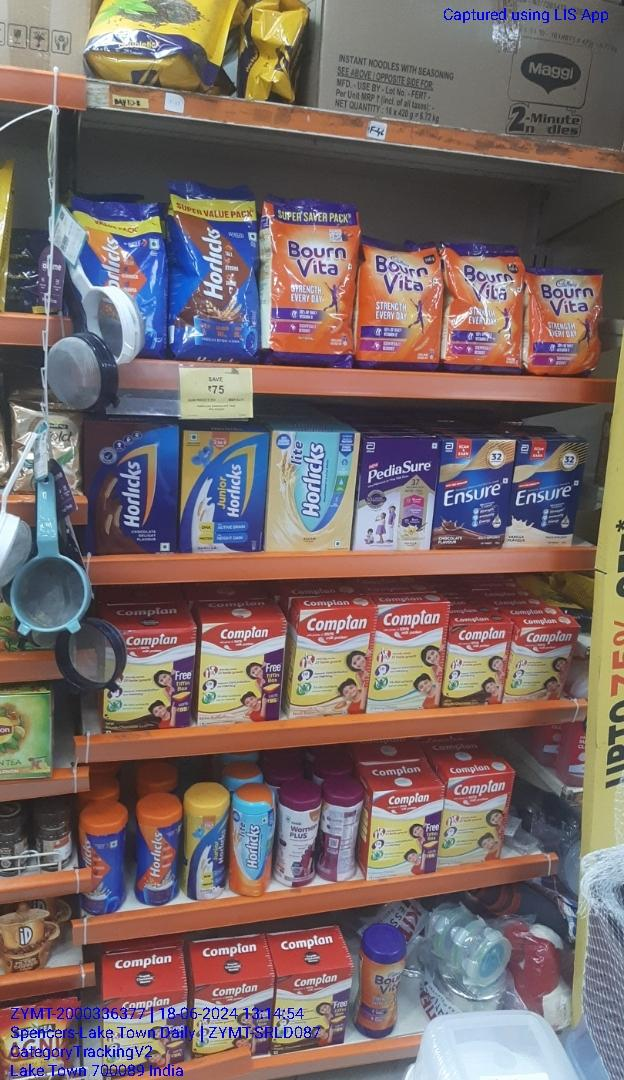BOURN_VITA_1_KG_POUCH: (266, 196, 351, 364)
BOURN_VITA_500_G_JAR: (358, 933, 403, 1038)
BOURN_VITA_500_G_POUCH: (526, 267, 598, 373)
BOURN_VITA_750_G_POUCH: (358, 237, 440, 367), (446, 243, 519, 372)
COMPLAN_CHOCOLATE_200_GMS_PACK: (443, 624, 502, 706)
COMPLAN_CHOCOLATE_500_GMS_PACK: (104, 629, 193, 731), (103, 996, 187, 1064), (274, 975, 346, 1051), (193, 985, 272, 1048)
COMPLAN_CREAMY_CLASSIC_500_G_PACK: (370, 605, 441, 709), (368, 786, 437, 876), (443, 772, 502, 867)
COMPLAN_KESAR_BADAM_200_GMS_PACK: (509, 625, 569, 702)
COMPLAN_KESAR_BADAM_500_GMS_PACK: (291, 605, 368, 717), (198, 623, 283, 723)
ENSURE_VANILLA_400_G_PACK: (509, 437, 572, 545)
HORLICKS_JUNIOR_VANILLA_500_GM_JAR: (186, 790, 227, 902)
HORLICKS_LITE_REGULAR_MALT_500_GM_JAR: (231, 792, 272, 898)
HORLICK_CHOCOLATE_750_G_POUCH: (172, 185, 259, 362)
HORLICK_CLASSIC_MALT_500_G_JAR: (135, 799, 183, 907), (82, 812, 128, 912)
PEDIASURE_VANILLA_500_G_PACK: (360, 438, 430, 550)
